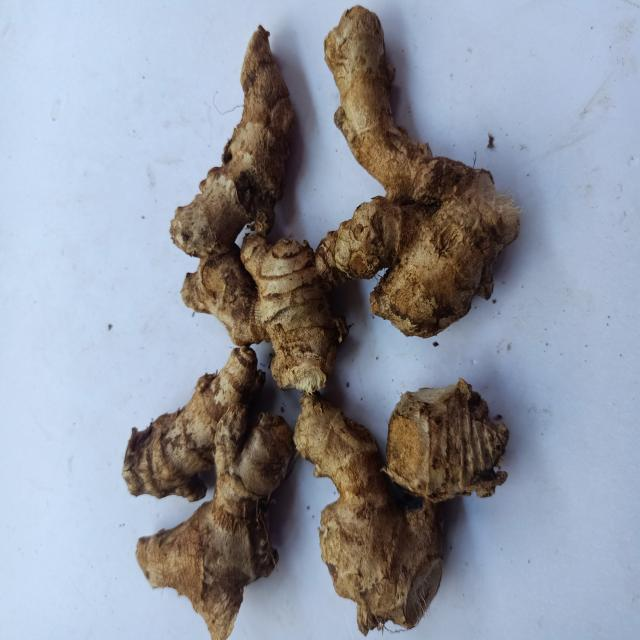Ginger: (315, 140, 545, 353), (136, 404, 295, 640), (294, 392, 443, 636), (170, 24, 294, 257), (122, 345, 265, 502), (325, 5, 434, 201), (240, 233, 349, 393), (386, 378, 510, 502), (181, 244, 265, 346), (336, 445, 339, 446)
